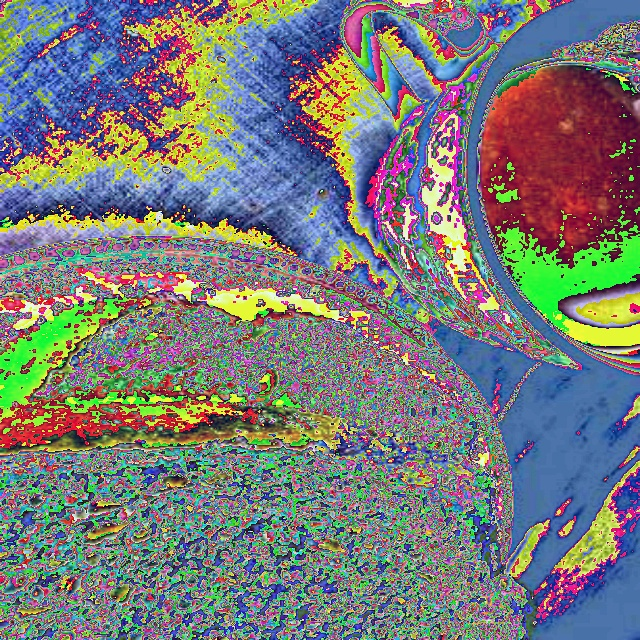background: (0, 297, 538, 639), (160, 63, 639, 351)
